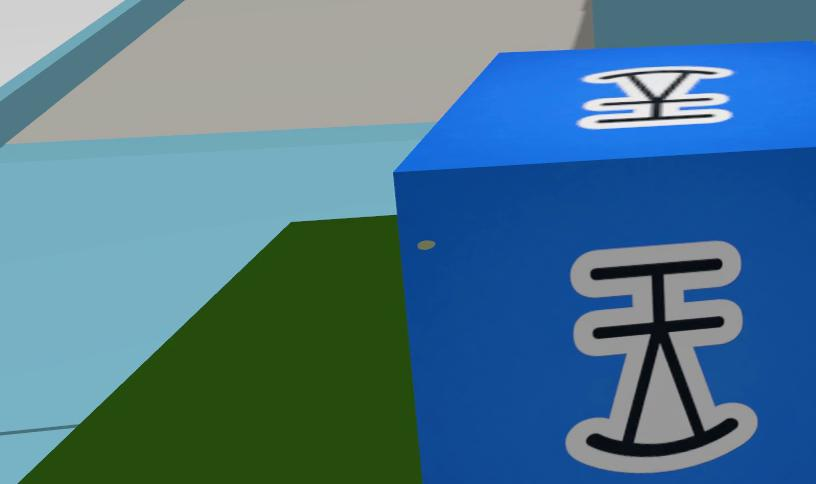KFS_REAL: (392, 22, 816, 483), (569, 226, 758, 457), (578, 55, 734, 114)
